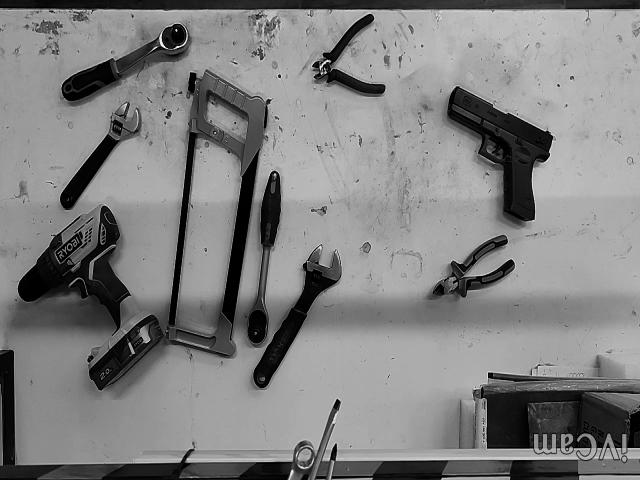Adjustable spanner: (254, 246, 341, 388), (60, 102, 140, 210)
Backsaw: (165, 70, 268, 357)
Cutting pliers: (312, 14, 385, 95), (432, 235, 515, 298)
Drill: (19, 206, 164, 390)
Gun: (448, 88, 552, 222)
Ratchet: (61, 24, 189, 100), (248, 172, 281, 347)
Wrench: (289, 440, 315, 480)
